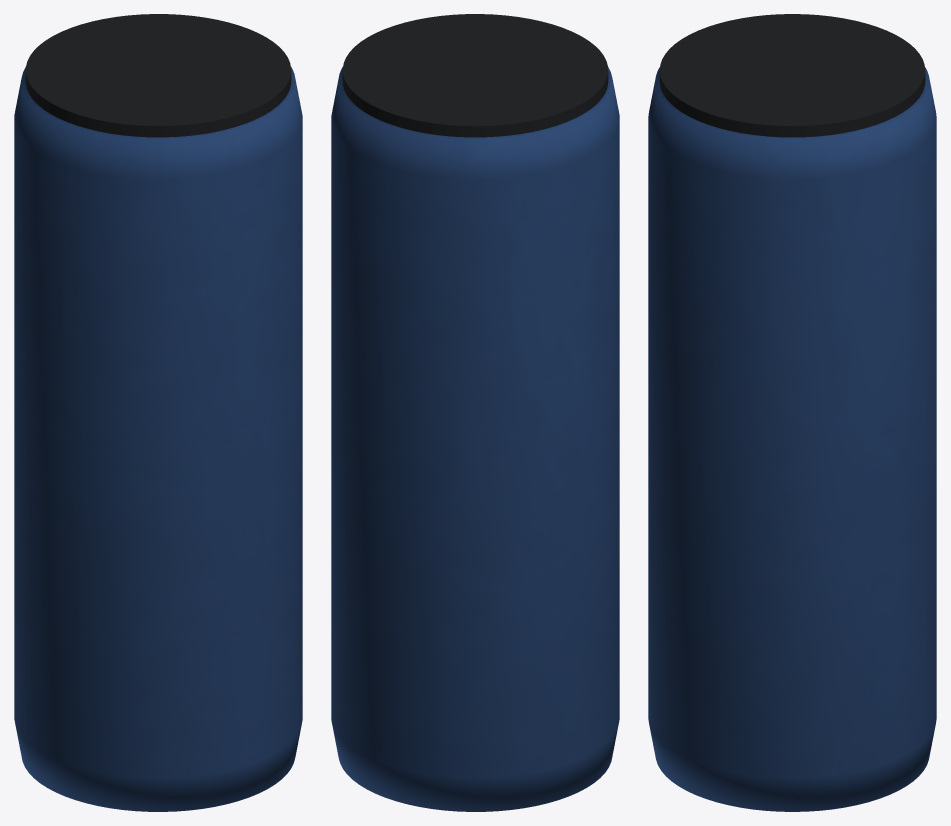
File: portable-blue.glb
3 views of the same model, side by side, from view 1: azimuth 30°, elevation 25°; view 2: azimuth 150°, elevation 25°; view 3: azimuth 270°, elevation 25° (orthographic).
Parts seen in each view (by area): view 1: fabric_primary, top_cap; view 2: fabric_primary, top_cap; view 3: fabric_primary, top_cap.
Boxes of the visible parts, x1,y1,x2,y2 form: fabric_primary: (14, 67, 302, 811); top_cap: (25, 14, 291, 137); fabric_primary: (331, 67, 619, 811); top_cap: (342, 14, 608, 137); fabric_primary: (648, 67, 936, 811); top_cap: (659, 14, 925, 137).
Size of the model in its own units: 0.07 by 0.183 by 0.07.
3 materials, 1 textured.
